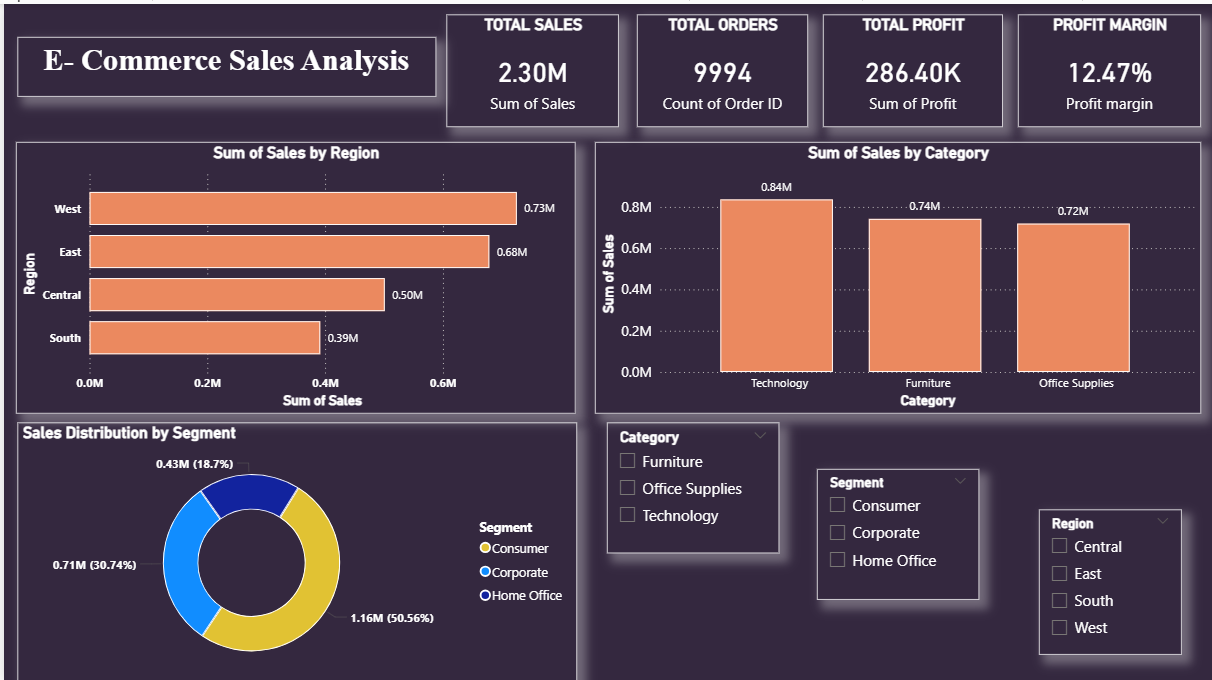

Layout of this report page (visuals, bound fields, positions):
{"tool":"powerbi","page":{"name":"E- Commerce Sales Dashboard","canvas":[1280,720],"ordinal":0},"visuals":[{"type":"card","title":"TOTAL SALES","fields":{"Values":["Sum(Orders.Sales)"]},"box":[469.2,11.1,182.9,119.3],"z":0},{"type":"card","title":"TOTAL PROFIT","fields":{"Values":["Sum(Orders.Profit)"]},"box":[868.5,11.1,190.9,119.3],"z":1000},{"type":"card","title":"TOTAL ORDERS","fields":{"Values":["CountNonNull(Orders.Order ID)"]},"box":[671.2,11.1,181.3,119.3],"z":2000},{"type":"card","title":"PROFIT MARGIN","fields":{"Values":["Orders.Profit margin"]},"box":[1075.3,11.1,194.1,119.3],"z":3000},{"type":"clusteredBarChart","fields":{"Category":["Orders.Region"],"Y":["Sum(Orders.Sales)"]},"box":[12.7,146.3,593.3,287.9],"z":4000},{"type":"clusteredColumnChart","fields":{"Category":["Orders.Category"],"Y":["Sum(Orders.Sales)"]},"box":[626.7,146.3,642.6,287.9],"z":5000},{"type":"donutChart","title":"Sales Distribution by Segment","fields":{"Category":["Orders.Segment"],"Y":["Sum(Orders.Sales)"]},"box":[14.3,443.8,593.3,276.8],"z":6000},{"type":"slicer","fields":{"Values":["Orders.Region"]},"box":[1097.5,536,151.1,154.3],"z":7000},{"type":"slicer","fields":{"Values":["Orders.Segment"]},"box":[862.1,493.1,171.8,138.4],"z":8000},{"type":"slicer","fields":{"Values":["Orders.Category"]},"box":[639.4,443.8,182.9,138.4],"z":9000},{"type":"textbox","box":[14.3,35,443.8,63.6],"z":9001}]}

Visuals, with their boxes in screenshot pixels (x1, y1, x2, y2), scaled from the page's 1280x720 canvas onto the 1212x680 screenshot:
"TOTAL SALES" card: (444,10,617,123)
"TOTAL PROFIT" card: (822,10,1003,123)
"TOTAL ORDERS" card: (636,10,807,123)
"PROFIT MARGIN" card: (1018,10,1202,123)
clusteredBarChart - Orders.Region x Sum(Orders.Sales): (12,138,574,410)
clusteredColumnChart - Orders.Category x Sum(Orders.Sales): (593,138,1202,410)
"Sales Distribution by Segment" donutChart: (14,419,575,679)
slicer - Orders.Region: (1039,506,1182,652)
slicer - Orders.Segment: (816,466,979,596)
slicer - Orders.Category: (605,419,779,550)
textbox: (14,33,434,93)
